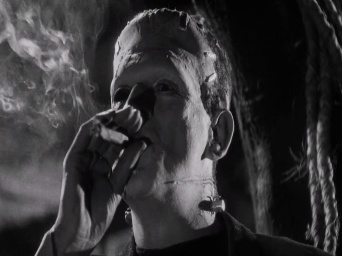smoke: (90, 121, 130, 144)
